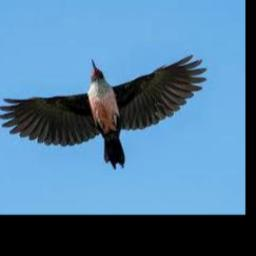Woodpecker: (0, 55, 206, 169)
